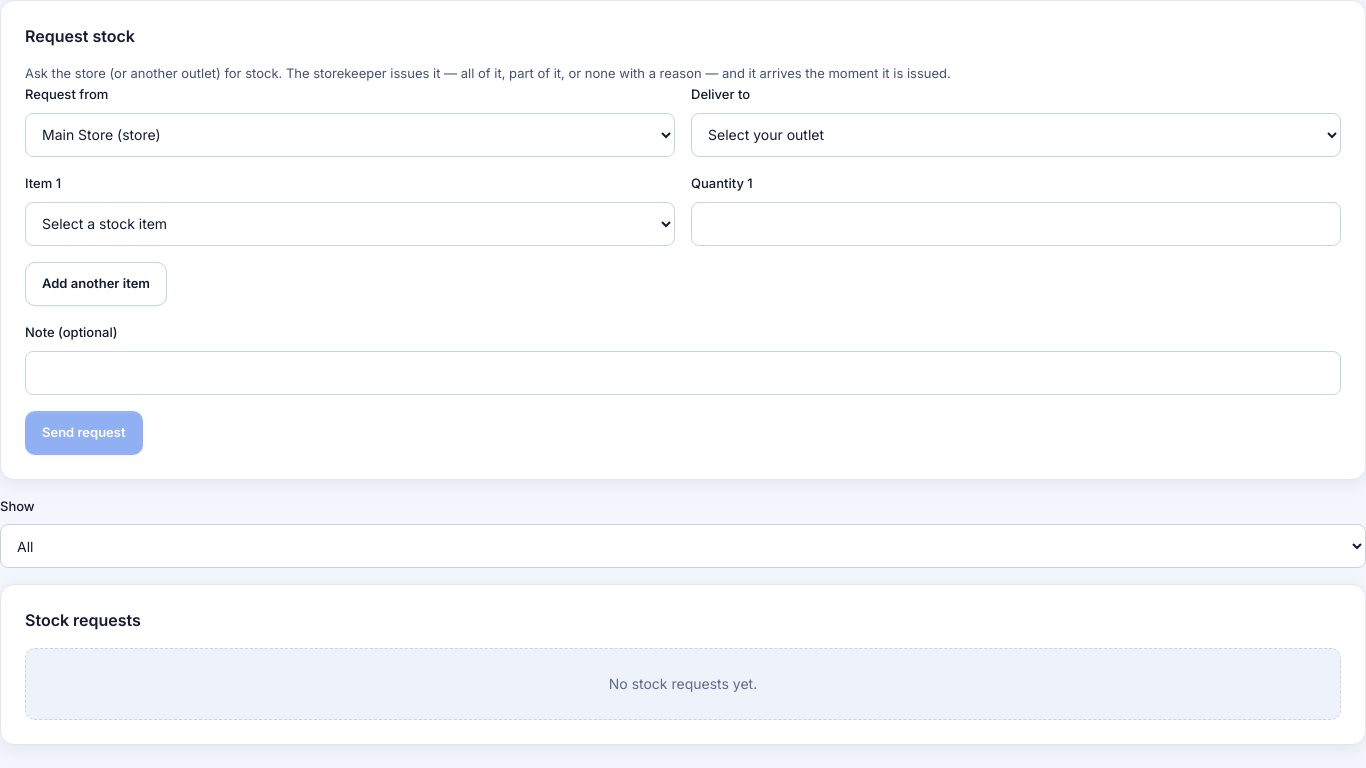
<StockRequestsTab> › raising a request › never offers an item already on another line, and will not send a zero quantity
Select "Main Bar" in the dropdown labelled "Deliver to" at (1016, 135), box 691,113 -> 1341,157
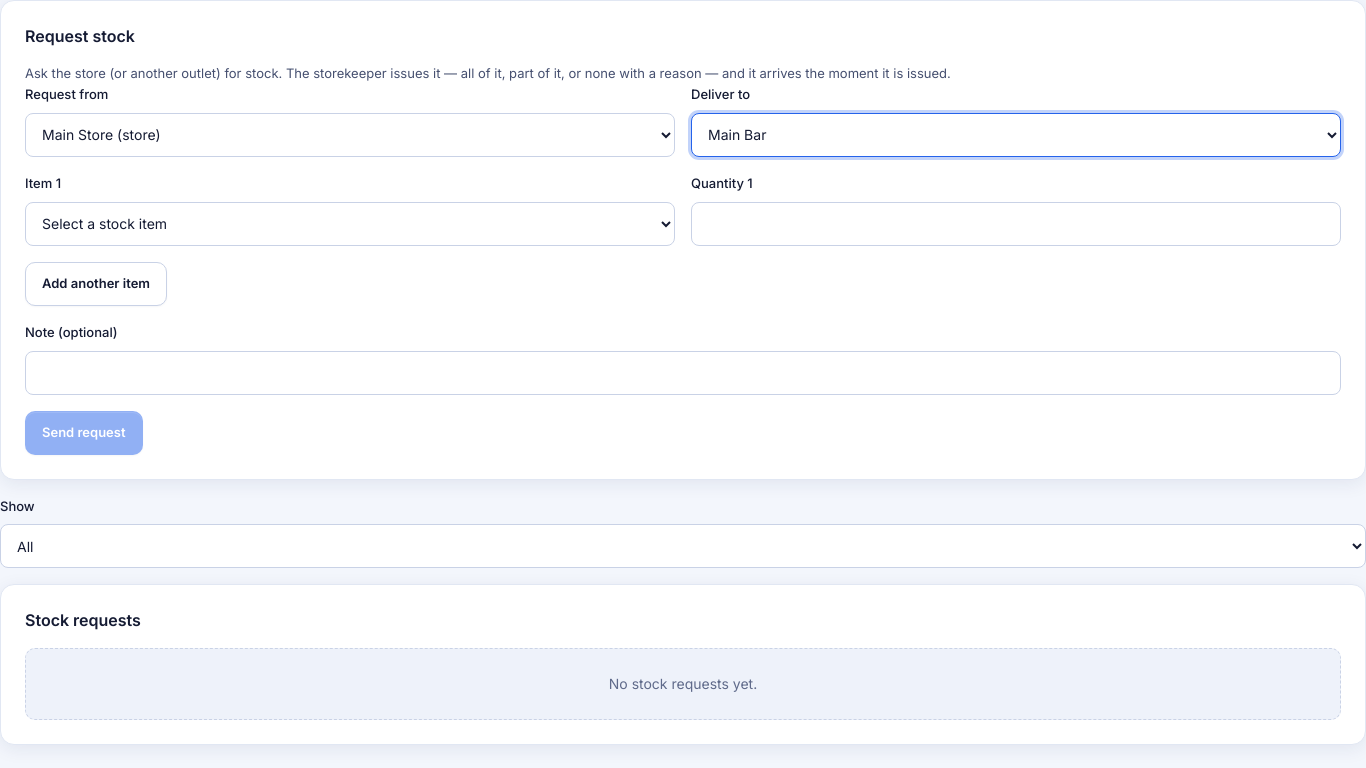
Select "Coke (bottle)" in the dropdown labelled "Item 1" at (350, 224), box 25,202 -> 675,246
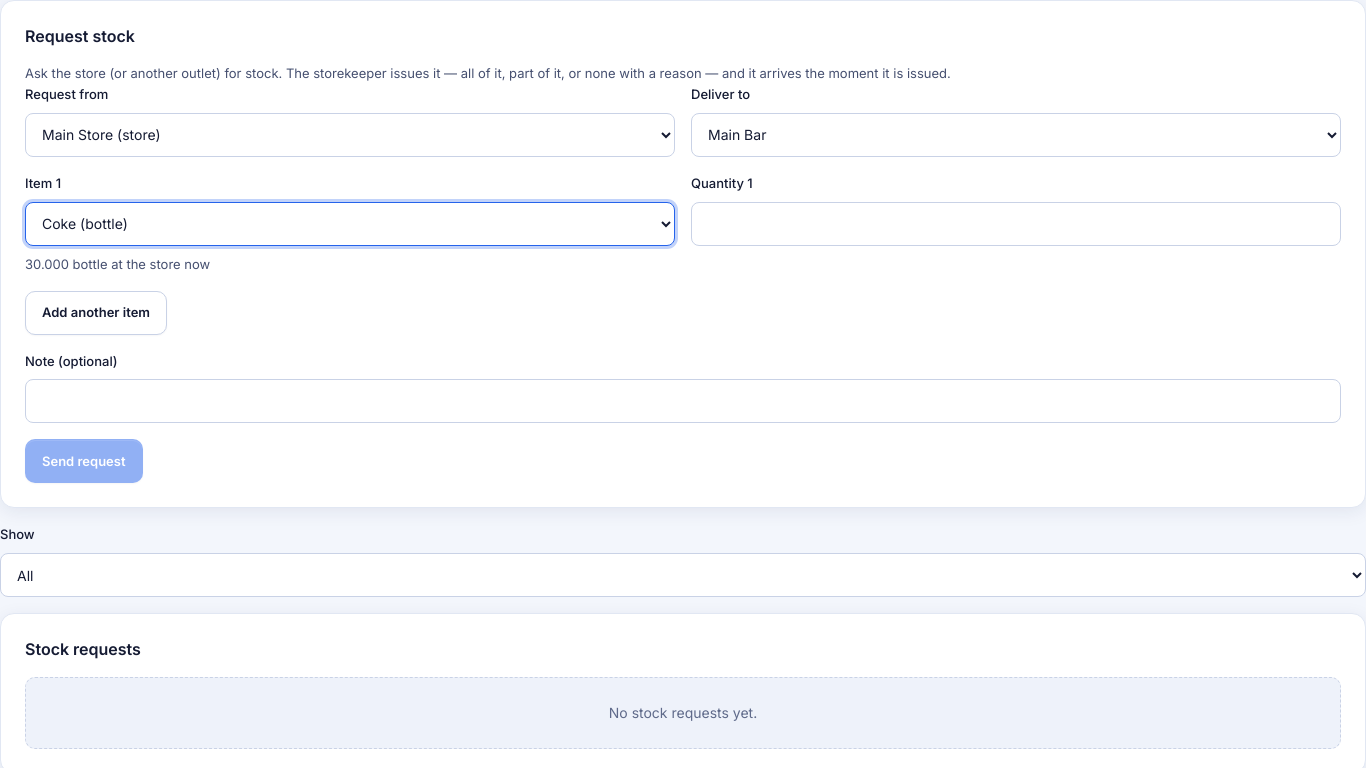
Click the button "Add another item".
click(96, 313)  # box 25,291 -> 167,335
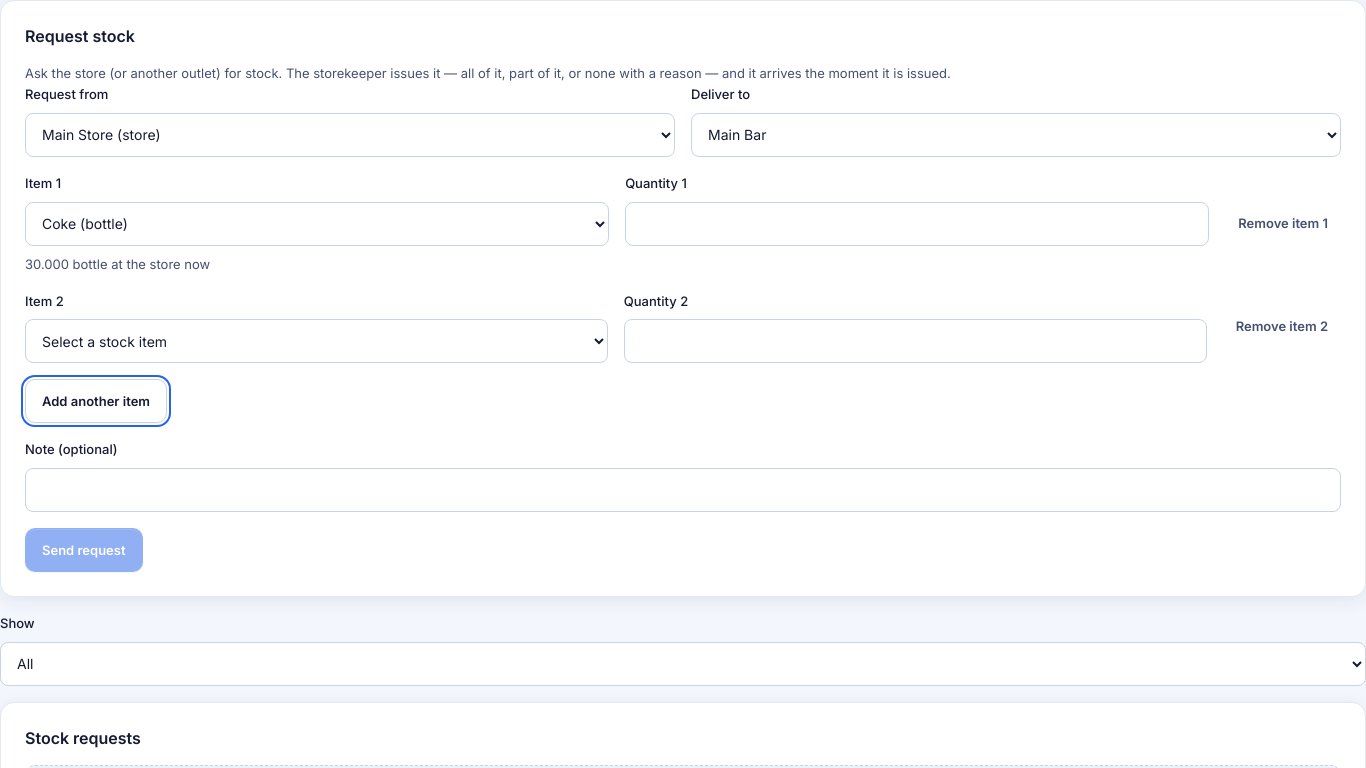
Type "0" into the field labelled "Quantity 1".
click(917, 224); type("0")  # box 625,202 -> 1209,246
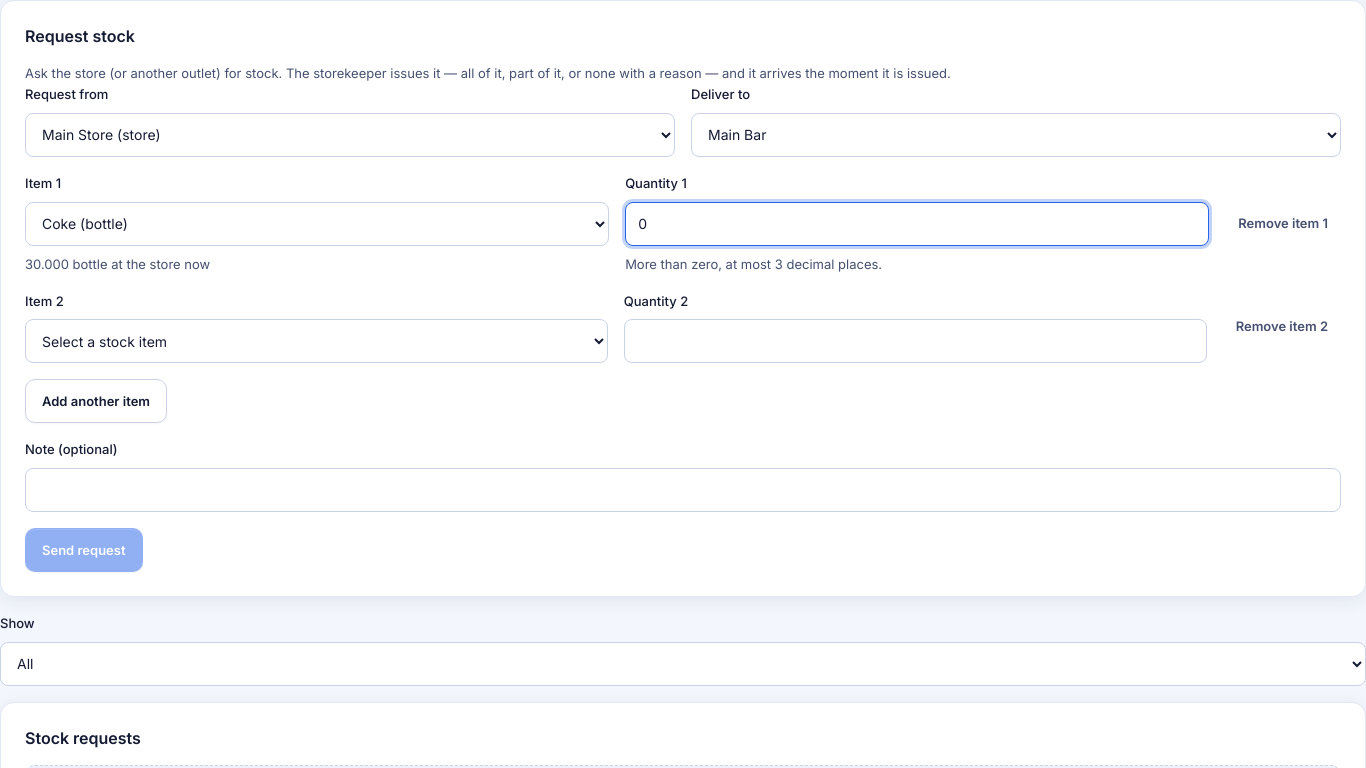
Expected: the button "Send request" is disabled, 25,528 -> 142,572
Expected: the text "More than zero, at most 3 decimal places." is shown, 625,256 -> 882,272
